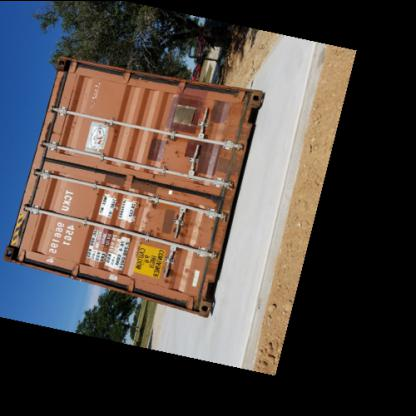Damage: (158, 132, 190, 159), (139, 198, 163, 226), (175, 215, 197, 245), (162, 262, 192, 283)
